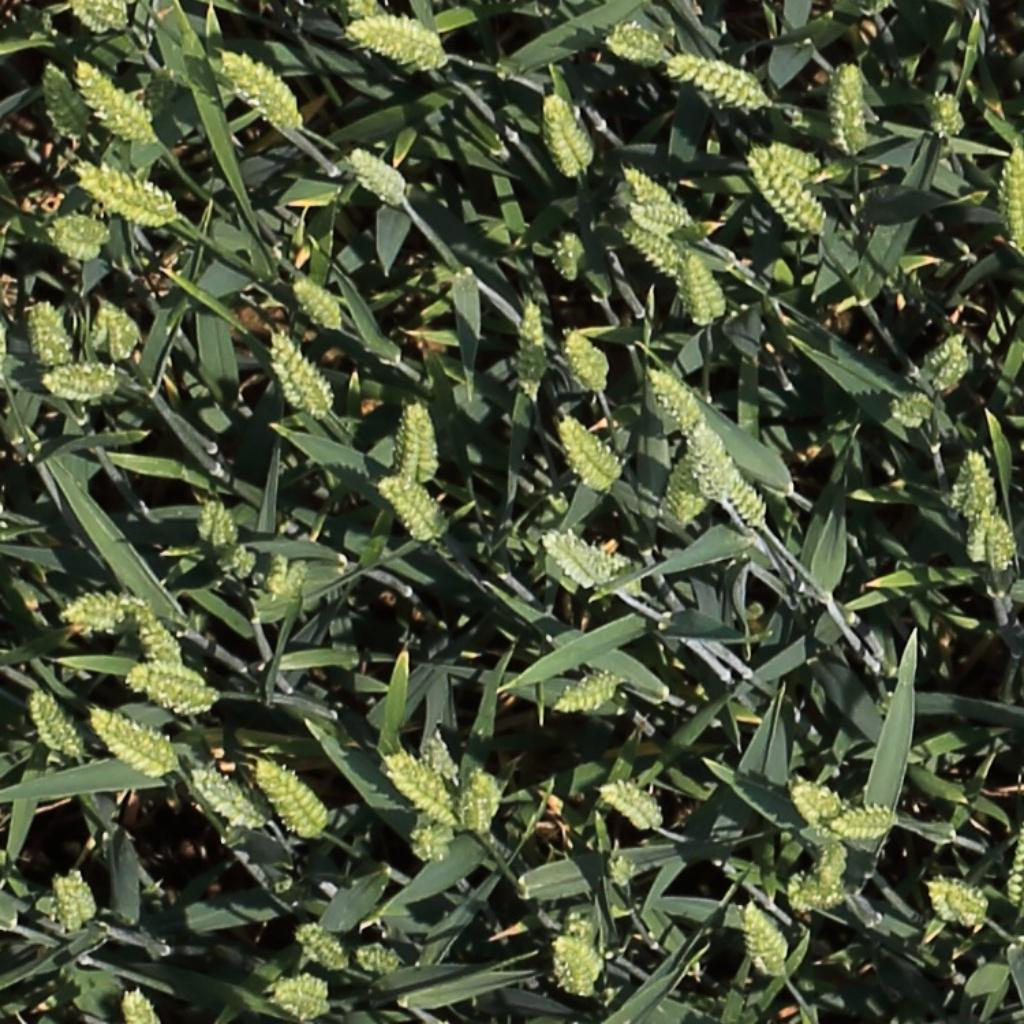0-0: (647, 363, 709, 528), (346, 0, 450, 79), (692, 427, 771, 529), (749, 147, 830, 234), (219, 49, 303, 131), (253, 753, 326, 842), (72, 58, 152, 139), (266, 326, 335, 419), (386, 755, 460, 831), (197, 491, 254, 586), (558, 412, 625, 492), (88, 711, 170, 775), (670, 55, 770, 106), (76, 165, 174, 217), (25, 685, 88, 765), (773, 858, 855, 919), (191, 768, 267, 831), (543, 90, 595, 181), (791, 779, 846, 864), (378, 475, 445, 544), (39, 57, 91, 143), (618, 218, 688, 281), (742, 898, 794, 981), (43, 354, 120, 408), (132, 598, 185, 675), (61, 585, 152, 629), (263, 519, 312, 600), (542, 529, 606, 589), (50, 874, 108, 940), (402, 395, 438, 497), (131, 670, 217, 712), (414, 798, 470, 862), (28, 293, 73, 371), (555, 924, 599, 1002), (563, 324, 611, 394), (346, 146, 409, 199), (290, 274, 346, 333), (273, 965, 334, 1017), (685, 245, 722, 330), (518, 292, 546, 404), (600, 783, 664, 831), (95, 294, 137, 365), (293, 924, 350, 976), (831, 805, 904, 845), (839, 55, 866, 163), (929, 880, 989, 927), (962, 445, 996, 525), (956, 519, 991, 595), (929, 338, 974, 397), (423, 724, 462, 791), (555, 674, 622, 712), (622, 161, 675, 207), (465, 765, 495, 843), (984, 503, 1014, 578), (1002, 143, 1022, 253), (554, 222, 585, 288), (49, 222, 111, 255), (931, 86, 966, 143), (1004, 813, 1024, 910), (767, 141, 824, 172), (809, 829, 859, 864), (629, 203, 697, 228), (608, 34, 669, 61), (120, 980, 155, 1024), (609, 554, 652, 589), (896, 398, 935, 434), (76, 1, 117, 34), (353, 946, 401, 973)
